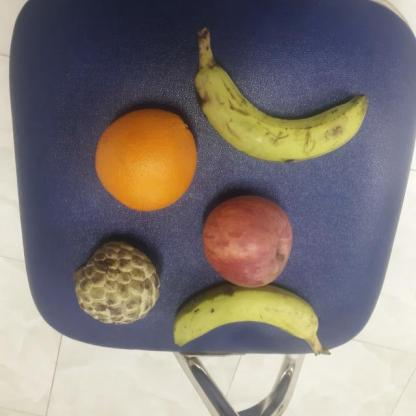annona: (72, 239, 162, 327)
apple: (200, 194, 294, 288)
banana: (193, 63, 369, 166), (169, 285, 324, 353)
orange: (95, 109, 201, 213)
